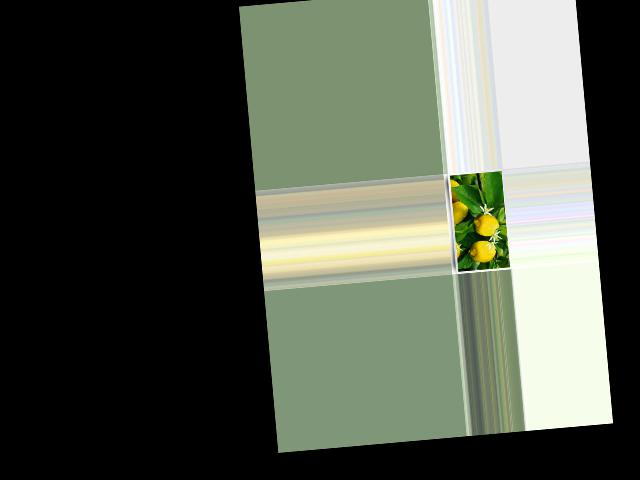lemon: (472, 213, 501, 237)
